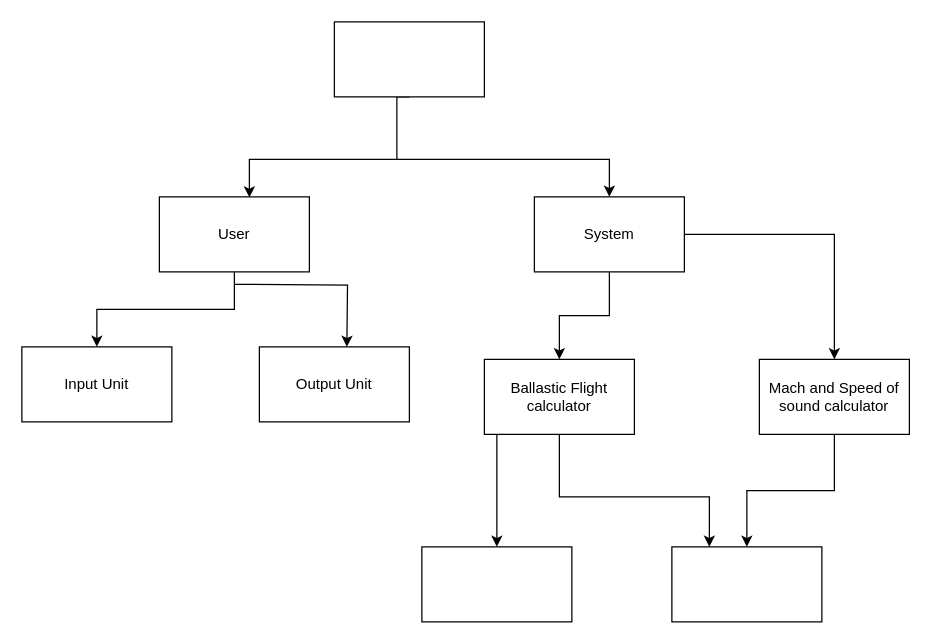
The diagram is 931 pixels wide and 644 high, and some of its shapes have lost their labels. Each missing label, with the centre of its shape:
"Rocket Altitude Calculator" belongs at point (746, 584).
"Rocket Launch Software" belongs at point (408, 59).
"Terminal Velocity Calculator" belongs at point (496, 584).
